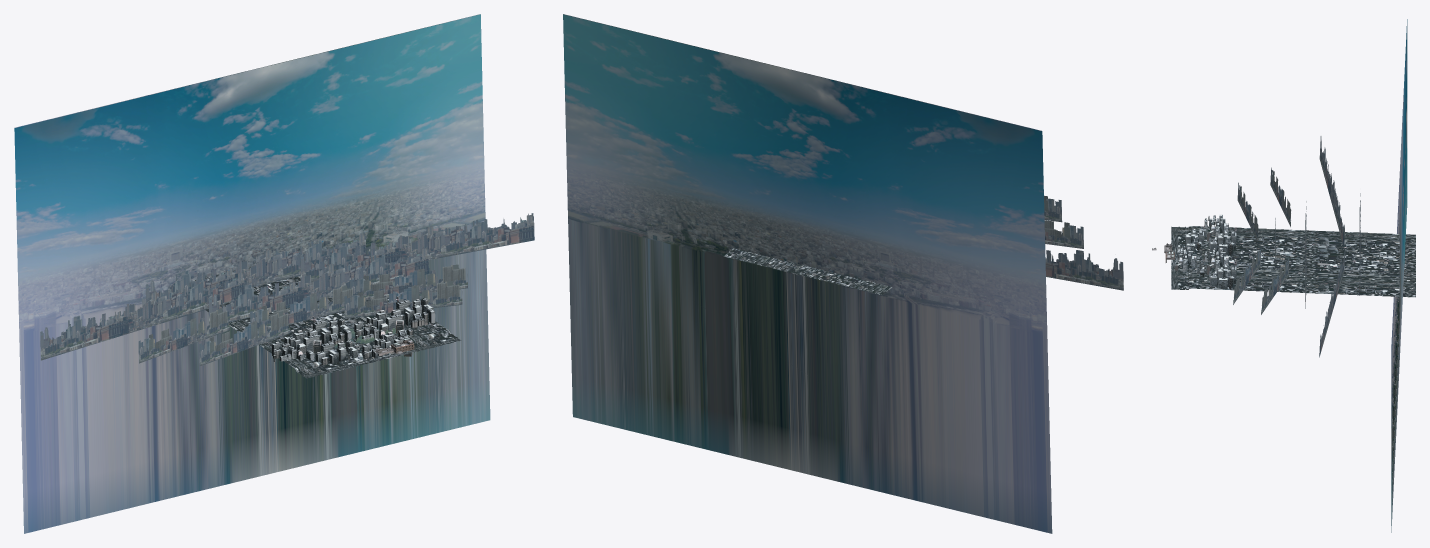
File: Rooftop(day).glb
3 renders of one model, left to right at view 1: azimuth 30°, elevation 25°; view 2: azimuth 150°, elevation 25°; view 3: azimuth 270°, elevation 25°, orthographic. The views are drawn at different scales.
Visible parts, largest first — view 1: 001, 006, 007, 004, 067, 005, 011, 010, 013, 066, 012, 009 (+2 smaller); view 2: 001, 006, 067, 013; view 3: 067, 001, 066, 064, 065, 006, 007, 012, 011, 010, 013.
Boxes of the visible parts, x1,y1,x2,y2 form: 001: (14,14,490,533); 006: (40,270,244,360); 007: (300,213,534,281); 004: (208,246,429,325); 067: (172,253,461,378); 005: (145,232,366,298); 011: (344,281,462,318); 010: (199,311,290,366); 013: (138,308,229,363); 066: (272,294,435,361); 012: (350,264,467,300); 009: (250,285,353,331); 001: (563,14,1052,533); 006: (1045,250,1123,290); 067: (723,248,892,295); 013: (1044,220,1083,248); 067: (1171,226,1415,297); 001: (1391,19,1407,532); 066: (1201,214,1236,289); 064: (1200,227,1236,275); 065: (1174,229,1207,276); 006: (1319,136,1344,247); 007: (1319,248,1345,357); 012: (1261,258,1289,314); 011: (1233,248,1261,304); 010: (1237,182,1258,241); 013: (1270,167,1291,226).
Size of the model in its own units: 17591 by 13595 by 9817.
Materials: 63 (63 with a texture image).
